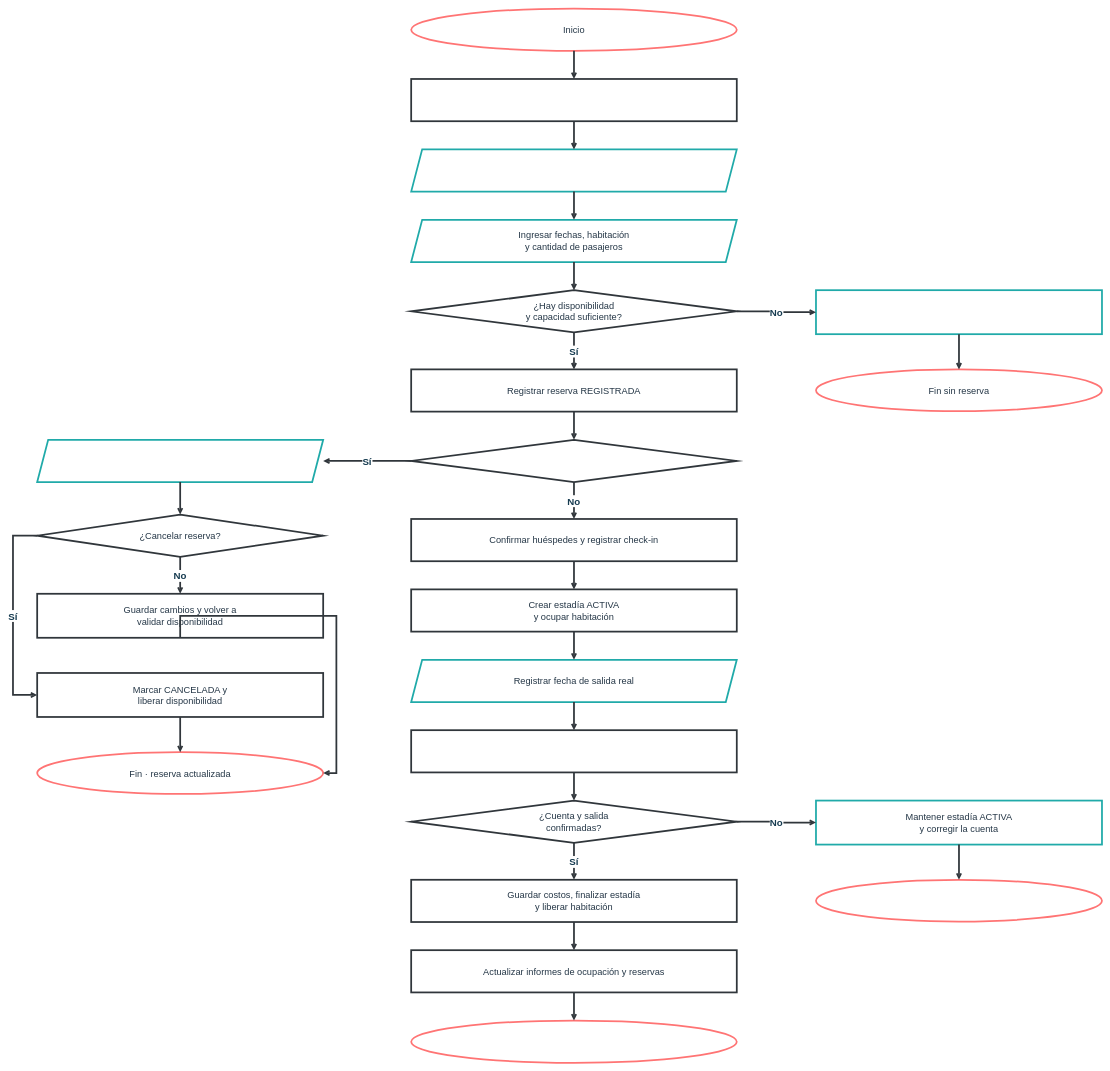
The diagram is 1110 pixels wide and 1071 high, and some of its shapes have lost their labels. Here are the shapes that lost their labels. From the top down, the box of each, then its label:
(410, 78, 737, 122): Iniciar sesión y validar perfil
(410, 148, 737, 192): Registrar o seleccionar huésped
(815, 289, 1103, 335): Mostrar conflicto y solicitar otras fechas o habitación
(36, 439, 324, 483): Seleccionar reserva REGISTRADA
(410, 439, 737, 483): ¿Modificar o cancelar antes del ingreso?
(410, 729, 737, 773): Calcular costo por pasajero y total
(815, 879, 1103, 922): Fin sin check-out
(410, 1019, 737, 1063): Fin
